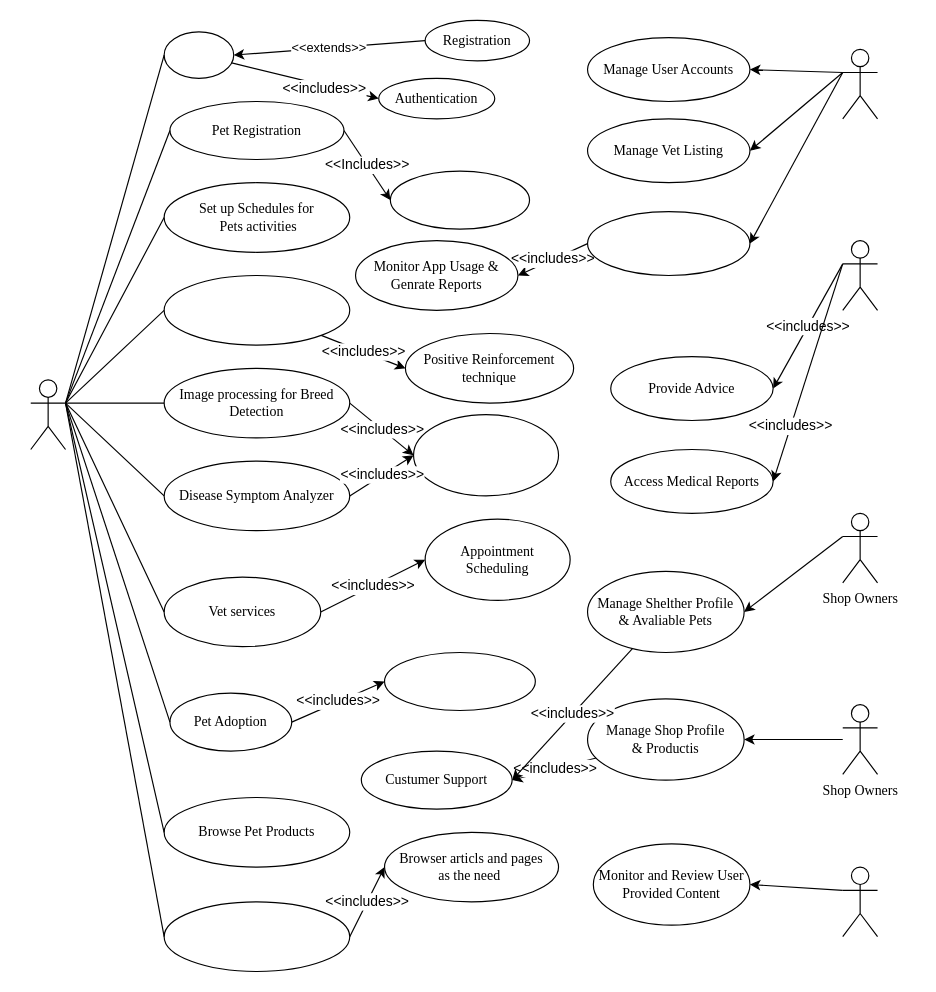
The diagram is 936 pixels wide and 992 high, and some of its shapes have lost their labels. The shapes that lost their labels are listed below. From the top down, each one's centre as x and y in pixels, then its label:
At (x=198, y=54): "Login".
At (x=860, y=83): "Admin".
At (x=459, y=199): "Upload Pet Information".
At (x=668, y=243): "Handle Support & Feedback".
At (x=860, y=275): "Veterinarians".
At (x=256, y=309): "Access Training Resources".
At (x=48, y=414): "Pet owner".
At (x=485, y=455): "Uploading necessary resources".
At (x=459, y=680): "Adoption Applications".
At (x=860, y=901): "Community Admins".
At (x=256, y=936): "Access information from Community Posts".
